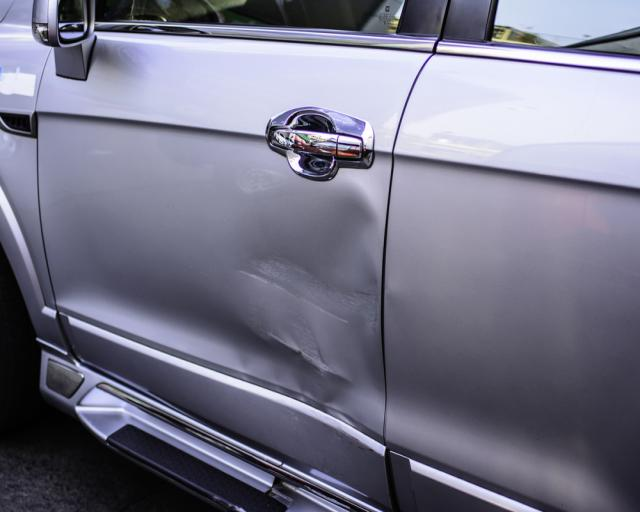dent: (228, 180, 383, 438)
